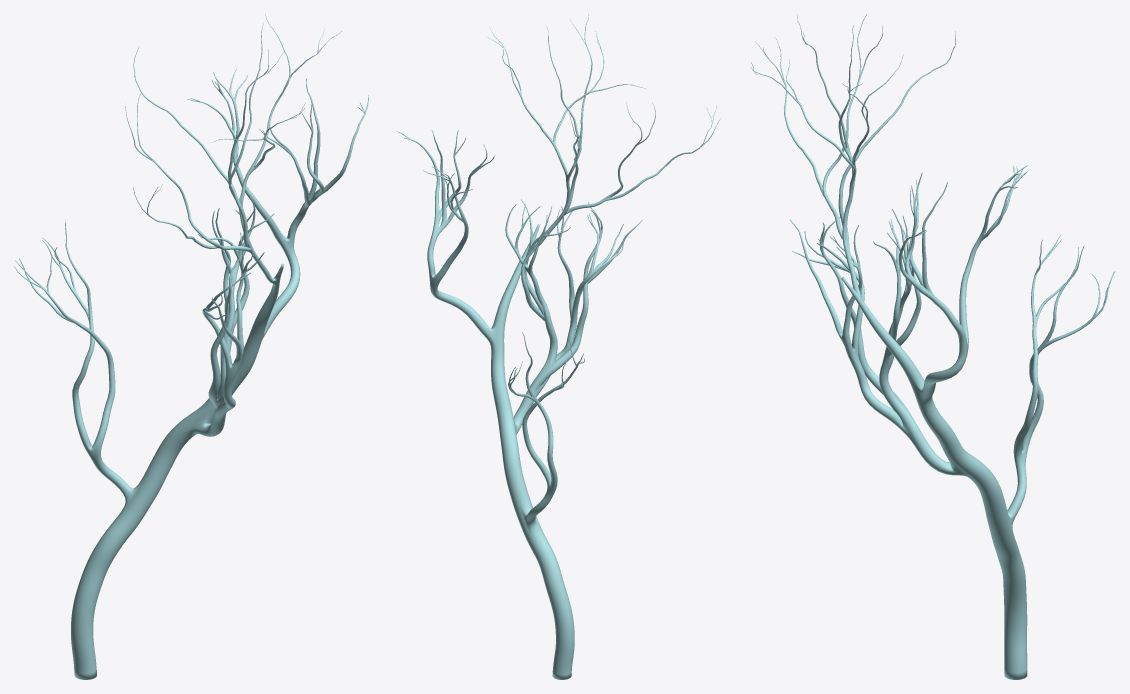
File: IceTree_Branch_01.fbx
The picture shows the model from 3 angles, left to right: view 1: azimuth 30°, elevation 25°; view 2: azimuth 150°, elevation 25°; view 3: azimuth 270°, elevation 25°; orthographic projection. The views are drawn at different scales.
Parts seen in each view (by area): view 1: Branch_01; view 2: Branch_01; view 3: Branch_01.
Part boxes in pixels (left/top/right/bottom): Branch_01: left=14, top=14, right=368, bottom=679; Branch_01: left=397, top=14, right=721, bottom=679; Branch_01: left=750, top=14, right=1115, bottom=679.
Size of the model in its own units: 70.82 by 150 by 71.11.
